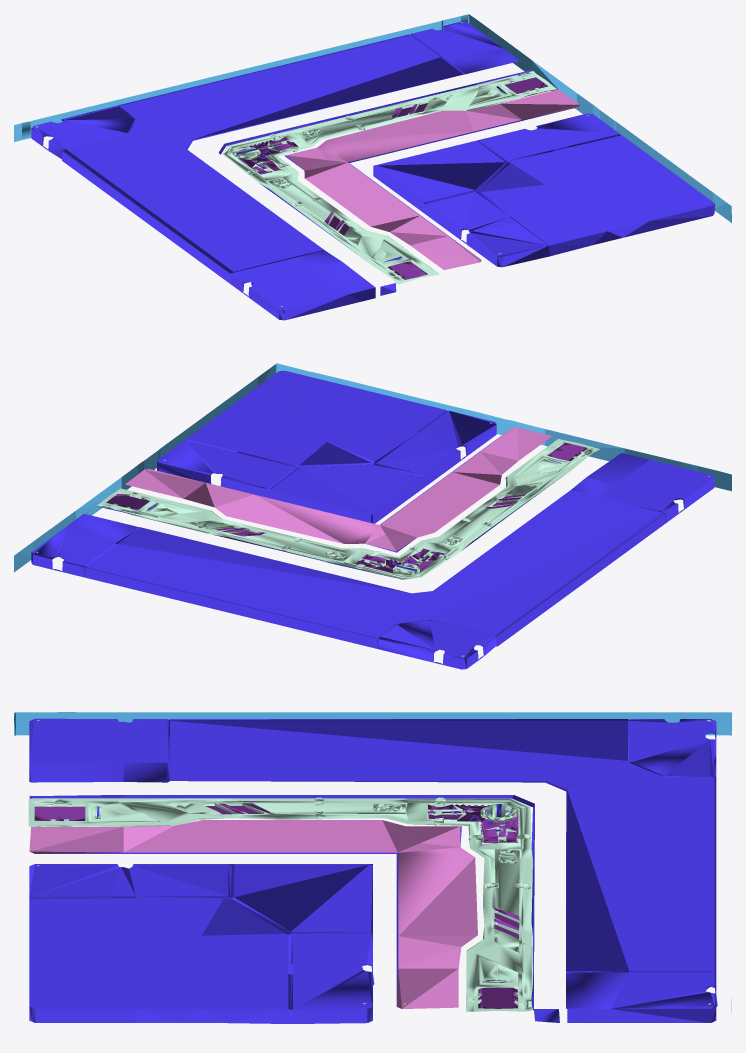
The model's file is floor_corner_16x16_a_lod2.glb.
3 views of the same model, one above another, from view 1: azimuth 30°, elevation 25°; view 2: azimuth 150°, elevation 25°; view 3: azimuth 270°, elevation 25° (orthographic). The views are drawn at different scales.
Size of the model in its own units: 16 by 0.6036 by 16.
